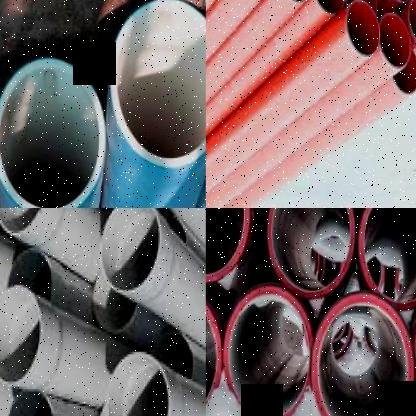pipe: (109, 0, 206, 168), (0, 58, 106, 208), (310, 293, 413, 416), (223, 285, 314, 416), (267, 208, 355, 297), (359, 208, 416, 309), (100, 208, 164, 294), (0, 282, 46, 389), (105, 347, 173, 416), (206, 208, 249, 282), (90, 275, 140, 337), (148, 327, 196, 382), (8, 247, 54, 304), (345, 0, 379, 57), (379, 14, 411, 69), (3, 386, 59, 416), (0, 208, 51, 237), (392, 49, 416, 95), (345, 0, 377, 15), (312, 0, 346, 14), (409, 0, 416, 49)
